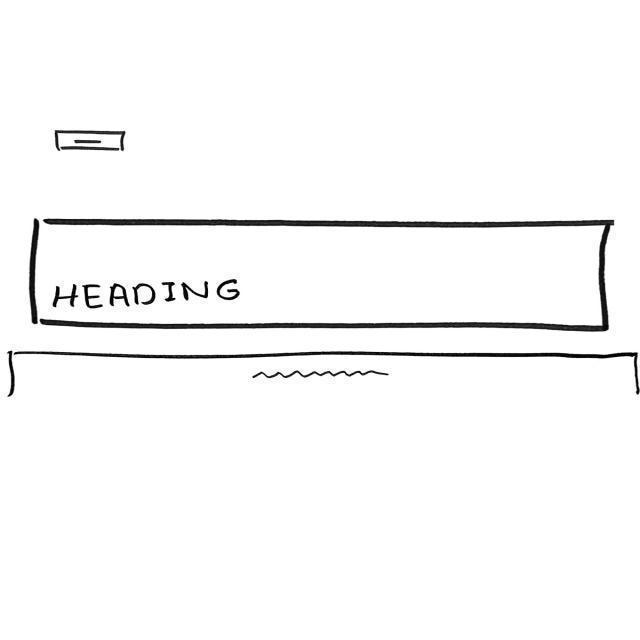container: (27, 216, 614, 332)
icon-button: (55, 129, 127, 154)
label: (50, 279, 246, 314)
text: (252, 371, 392, 379)
